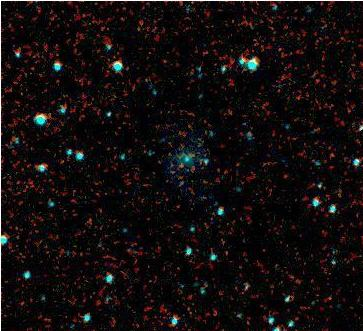star: (164, 151, 194, 181)
